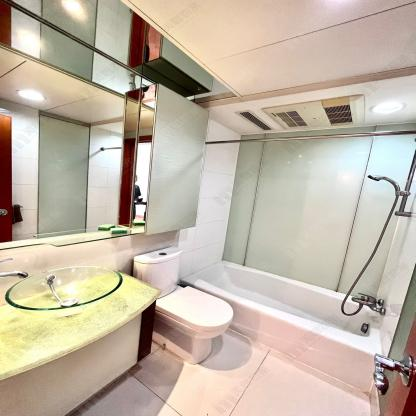Bathtub: (182, 260, 384, 397)
Toilet: (131, 246, 233, 365)
Toilet Sink: (6, 264, 123, 317)
